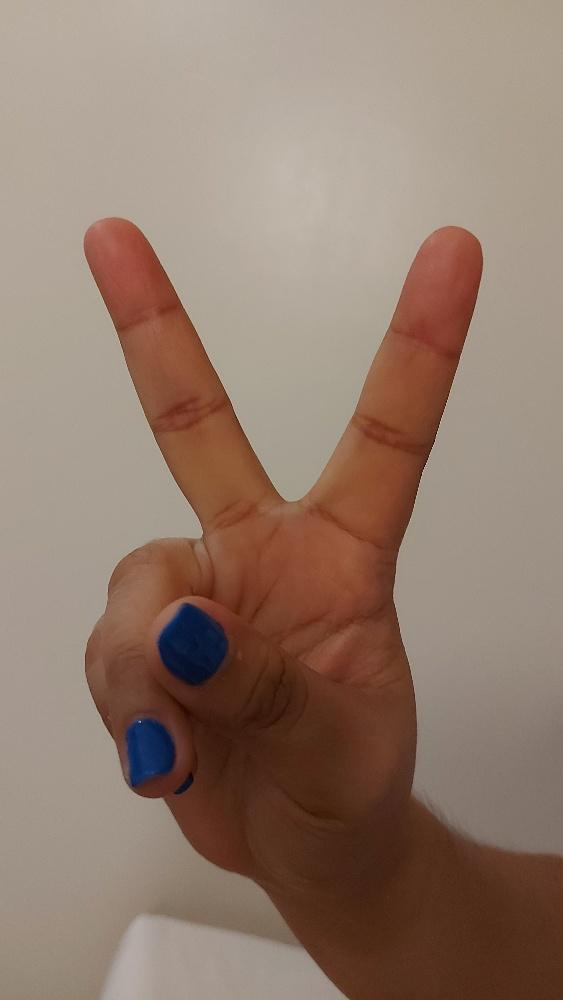v: (76, 213, 487, 887)
